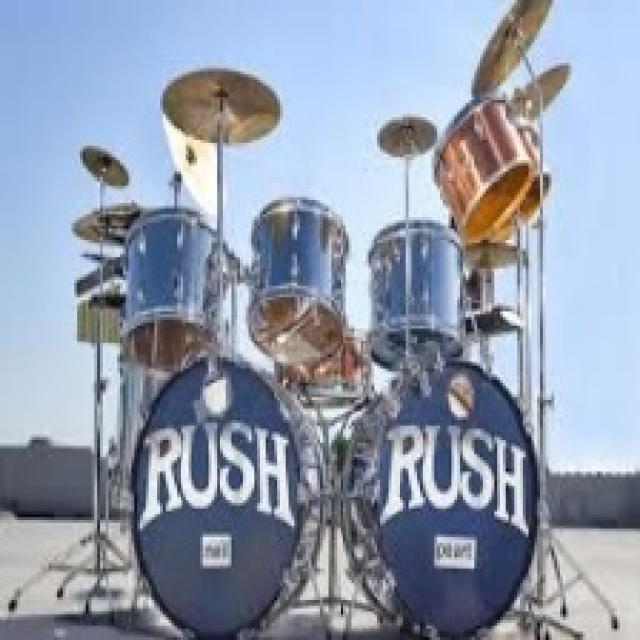drums: (73, 1, 590, 635)
